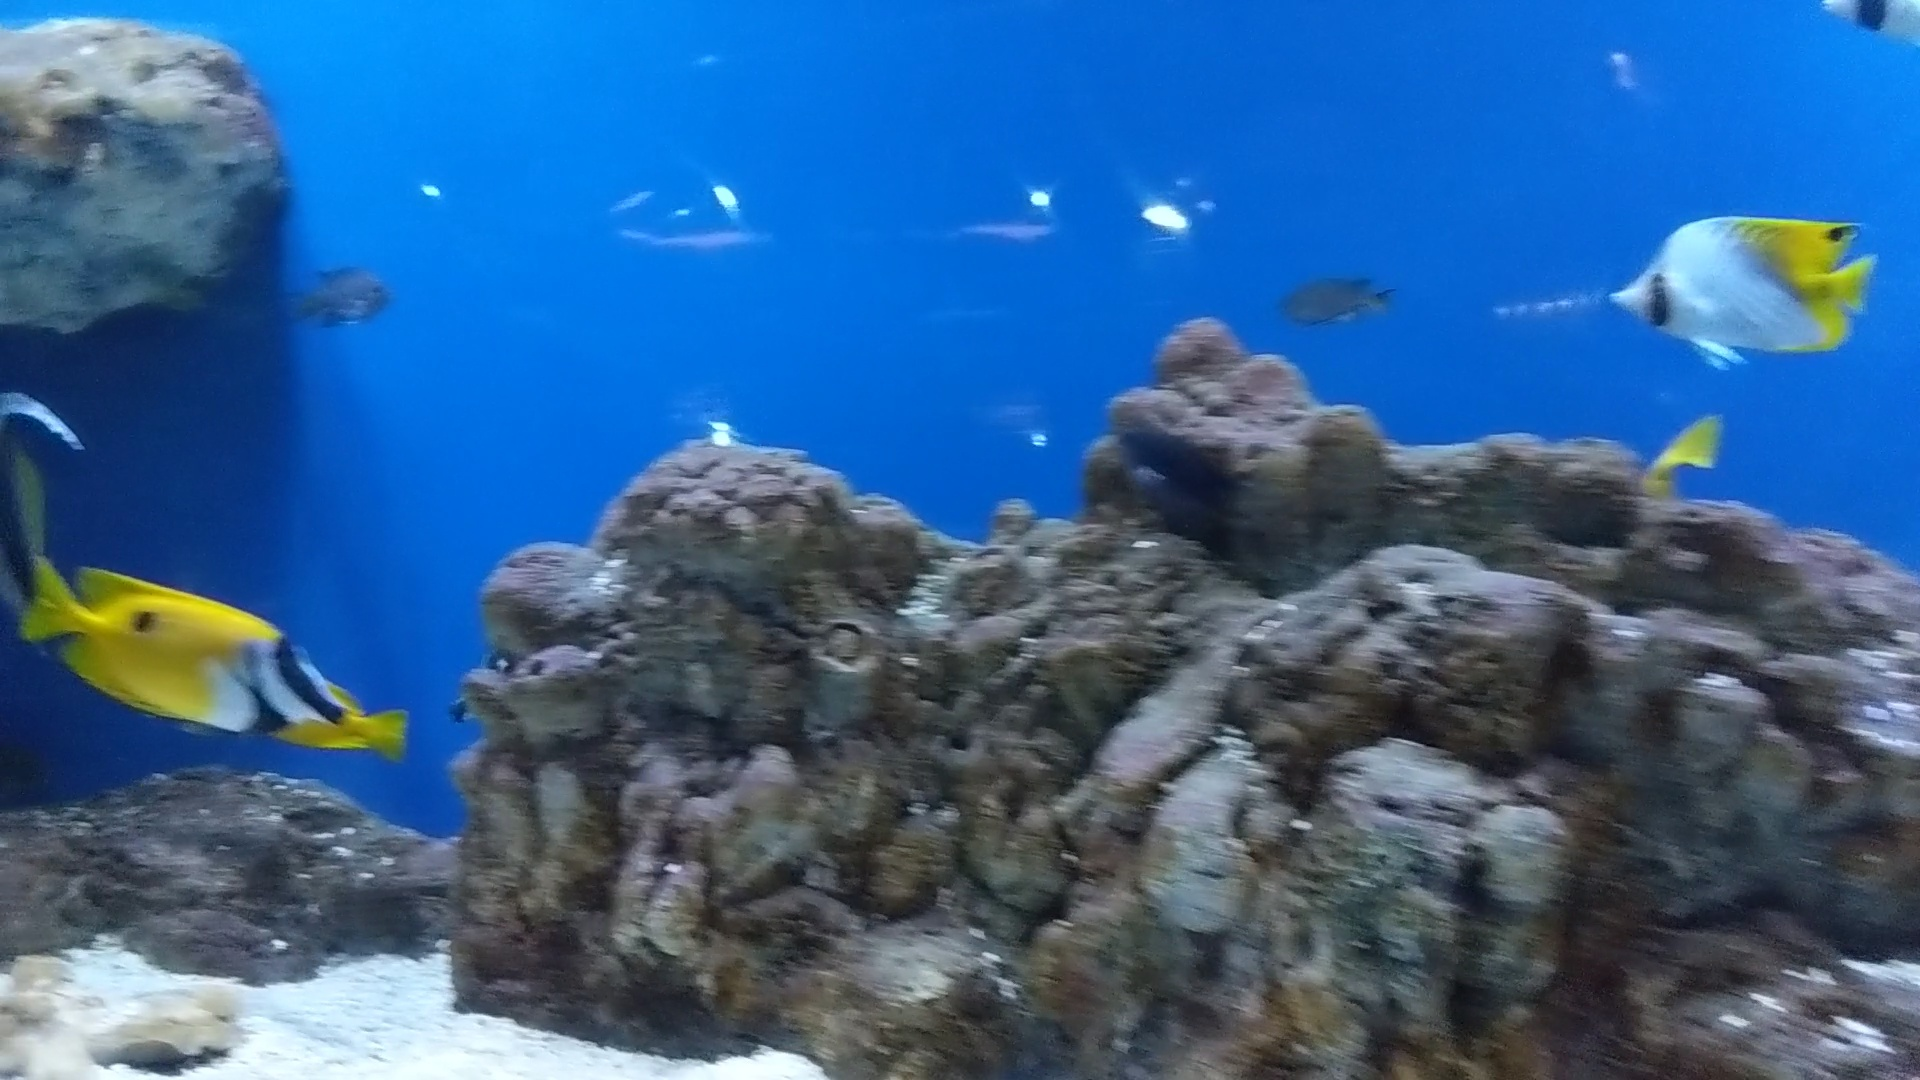butterflyfish: (1605, 212, 1873, 359)
rabbitfish: (11, 553, 355, 762)
